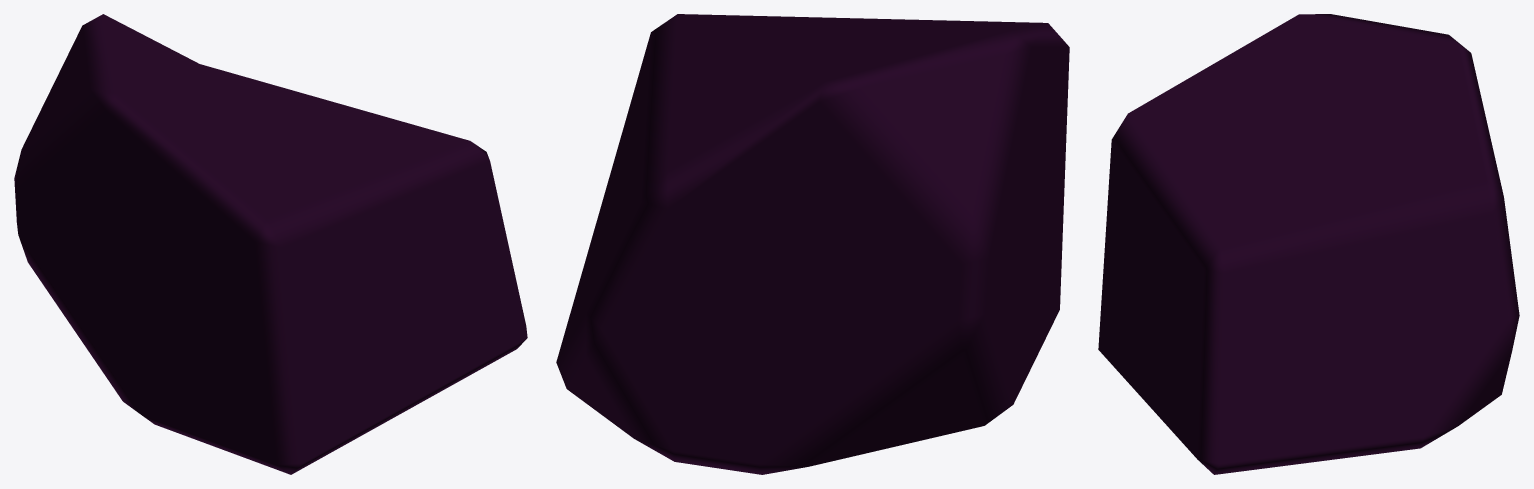
Rendered from Rock.fbx.
3 views of the same model, side by side, from view 1: azimuth 30°, elevation 25°; view 2: azimuth 150°, elevation 25°; view 3: azimuth 270°, elevation 25° (orthographic). The views are drawn at different scales.
Visible parts, largest first — view 1: Cube.002; view 2: Cube.002; view 3: Cube.002.
Boxes of the visible parts, <box> form: Cube.002: <box>14,14,527,474</box>; Cube.002: <box>556,14,1069,474</box>; Cube.002: <box>1098,14,1519,474</box>.
Size of the model in its own units: 111 by 86.46 by 104.
